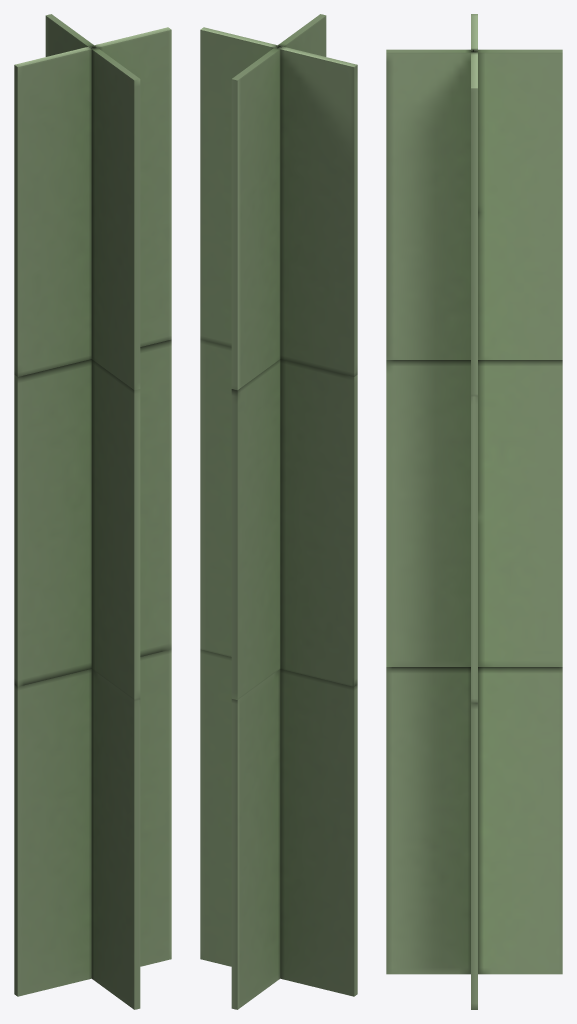
The model's file is sugarcane.glb.
3 renders of one model, left to right at view 1: azimuth 30°, elevation 25°; view 2: azimuth 150°, elevation 25°; view 3: azimuth 270°, elevation 25°, orthographic.
Parts seen in each view (by area): view 1: sugarcane; view 2: sugarcane; view 3: sugarcane.
Part boxes in pixels (<box>): sugarcane: <box>14,14,171,1009</box>; sugarcane: <box>200,14,357,1009</box>; sugarcane: <box>386,14,562,1009</box>.
Size of the model in its own units: 0.52 by 3 by 0.52.
1 material, 1 textured.
